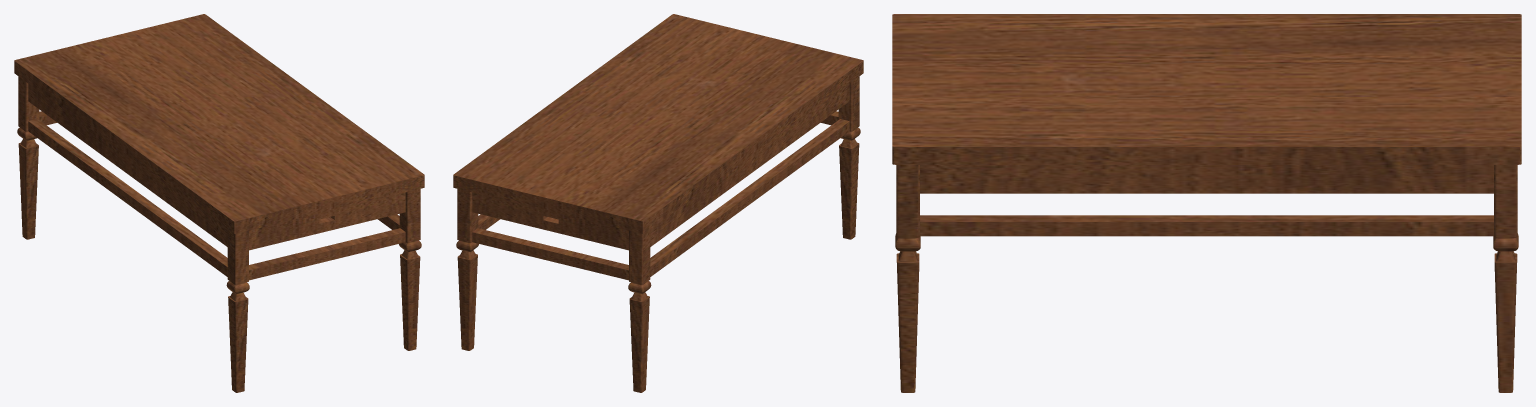
File: table.fbx
3 views of the same model, side by side, from view 1: azimuth 30°, elevation 25°; view 2: azimuth 150°, elevation 25°; view 3: azimuth 270°, elevation 25° (orthographic). The views are drawn at different scales.
Parts seen in each view (by area): view 1: Table; view 2: Table; view 3: Table.
Part boxes in pixels (x1=…): Table: x1=14, y1=14, x2=424, y2=392; Table: x1=453, y1=14, x2=863, y2=392; Table: x1=892, y1=14, x2=1521, y2=392.
Size of the model in its own units: 800 by 700 by 1599.
Materials: 1 (1 with a texture image).
